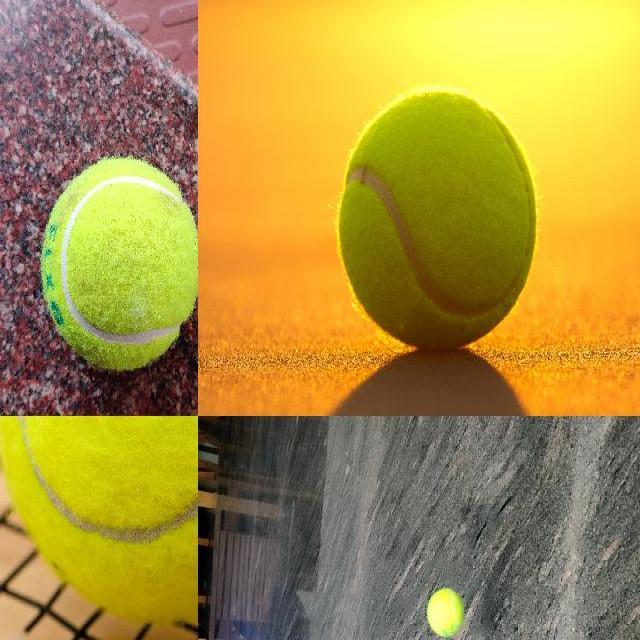tennis-ball: (336, 91, 536, 349), (0, 416, 197, 624), (42, 157, 197, 371), (427, 587, 464, 637)
